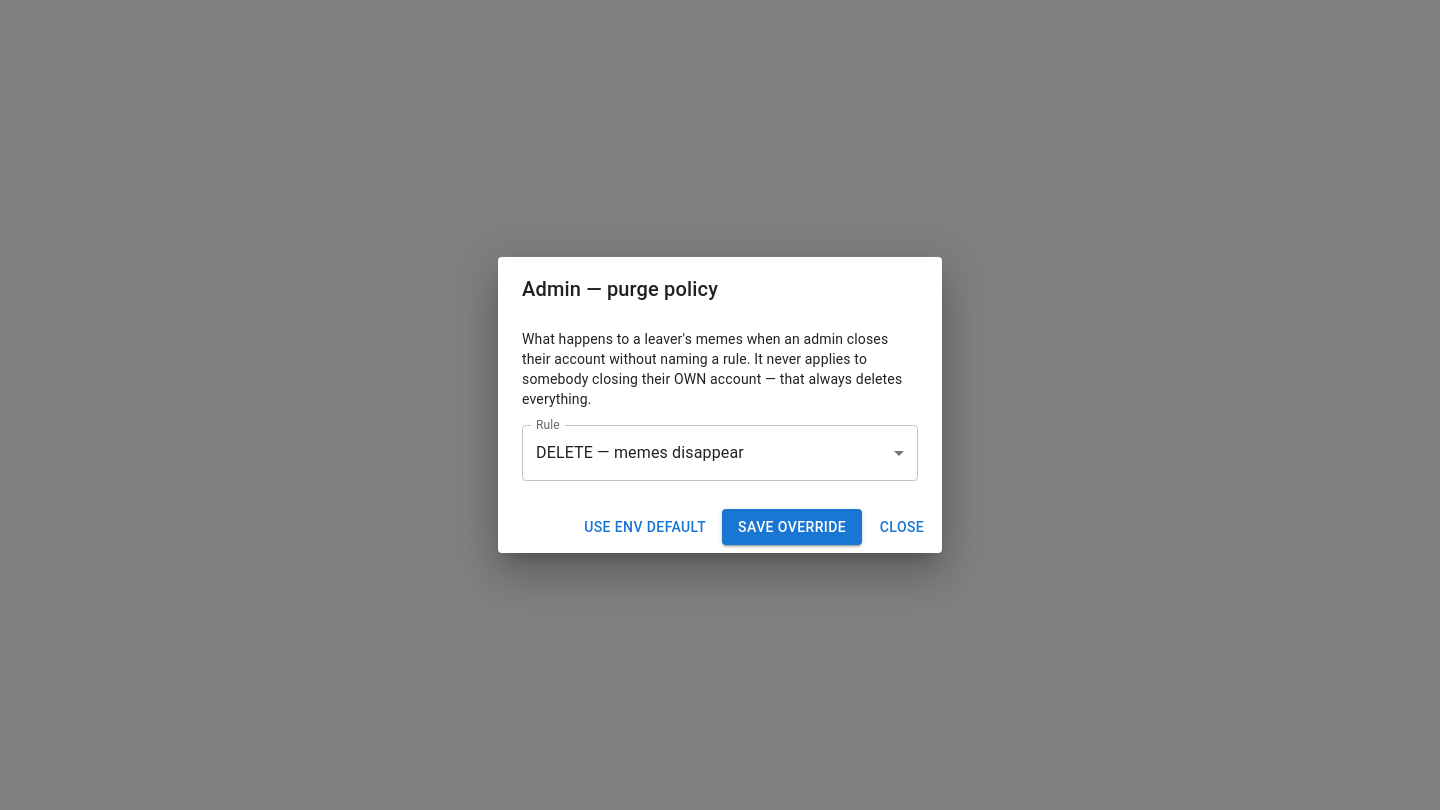
when the service behind a write is down › the admin dial says the override was NOT saved, rather than nothing
The width and height of the screenshot is (1440, 810).
Click the button "Save override" at (792, 527), box [722,509,862,545]
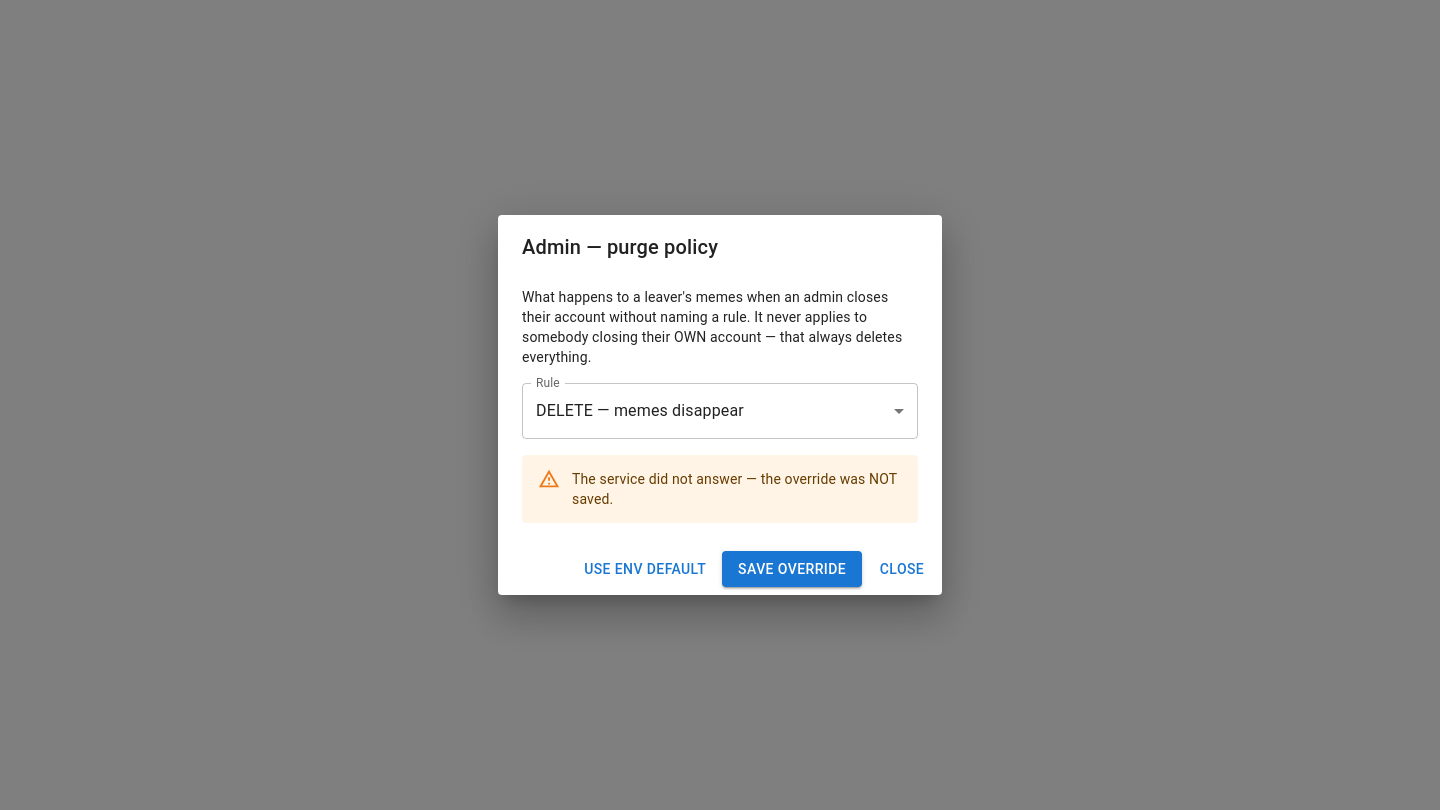
Expected: the text "The service did not answer — the override was NOT saved." is shown, [572,461,902,517]
